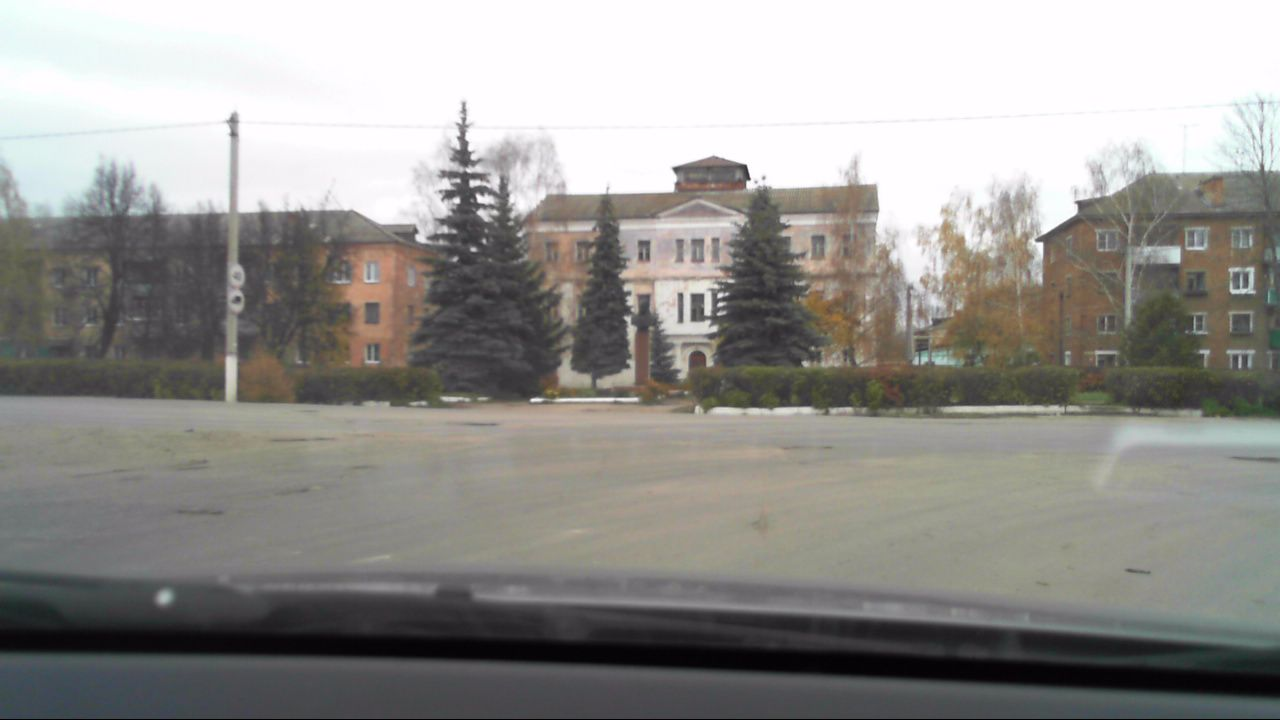speed_warning_40: (228, 263, 246, 285)
